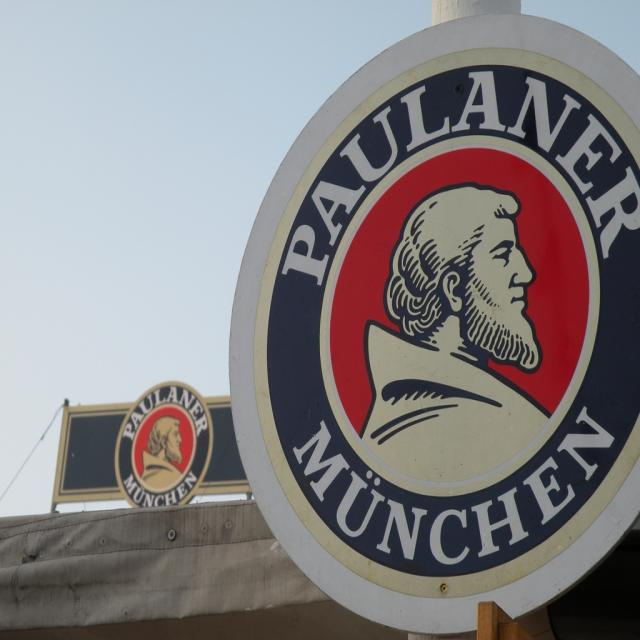paulaner: (253, 48, 640, 603), (116, 382, 215, 510)
